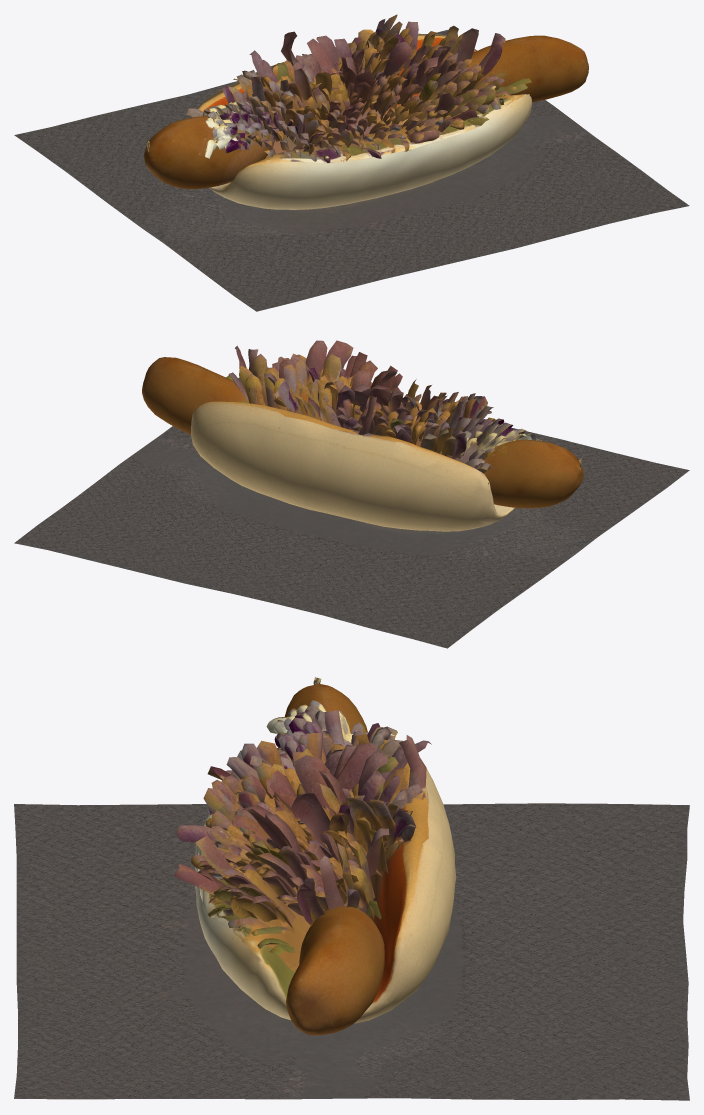
Rendered from hotdog.glb.
3 views of the same model, one above another, from view 1: azimuth 30°, elevation 25°; view 2: azimuth 150°, elevation 25°; view 3: azimuth 270°, elevation 25° (orthographic). The views are drawn at different scales.
Size of the model in its own units: 1 by 0.3213 by 0.9688.
Materials: 1 (1 with a texture image).
